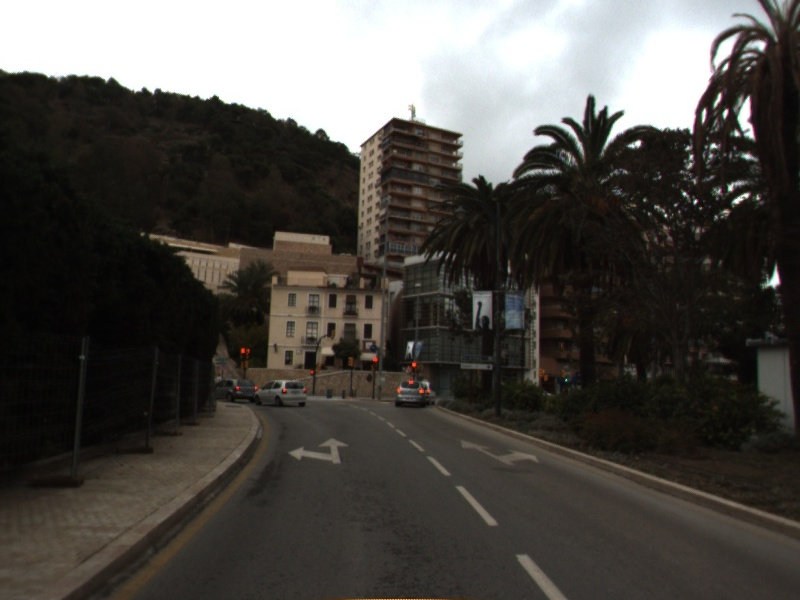STRAIGHT_LEFT: (286, 436, 351, 466)
STRAIGHT_RIGHT: (458, 437, 541, 467)
